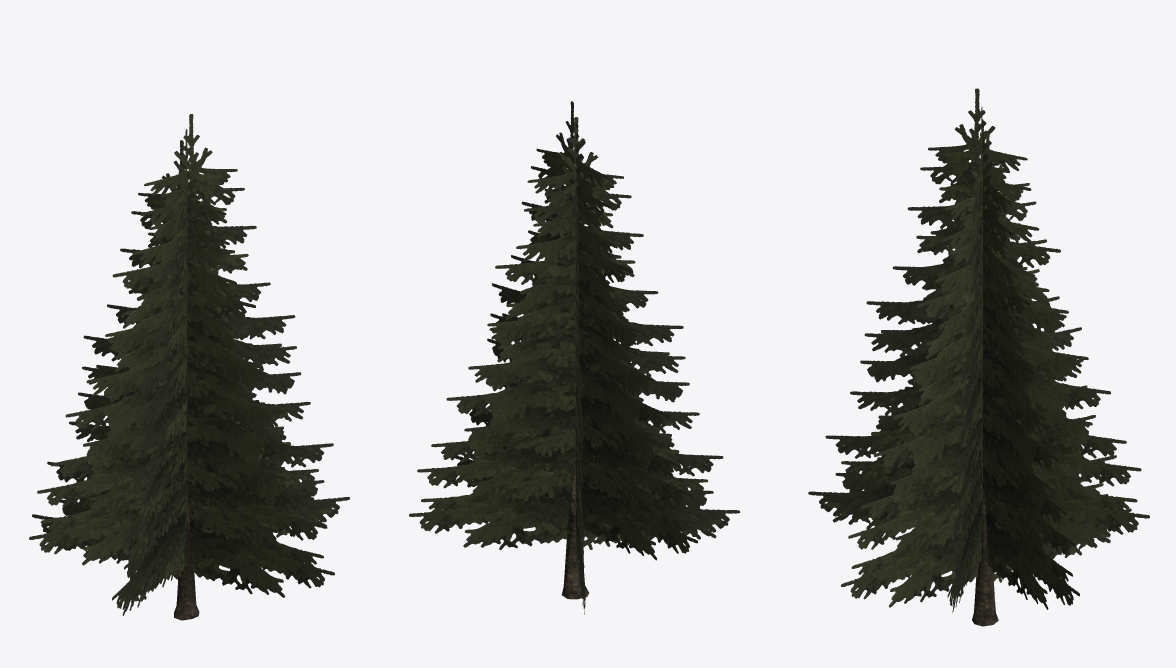
The model's file is tree_rt_3.fbx.
The picture shows the model from 3 angles, left to right: view 1: azimuth 30°, elevation 25°; view 2: azimuth 150°, elevation 25°; view 3: azimuth 270°, elevation 25°; orthographic projection. The views are drawn at different scales.
Parts seen in each view (by area): view 1: tree_rt_3; view 2: tree_rt_3; view 3: tree_rt_3.
Part boxes in pixels (box(x1,y1,x2,y2)): tree_rt_3: box(29, 114, 349, 620); tree_rt_3: box(409, 101, 740, 614); tree_rt_3: box(808, 88, 1149, 626).
Bounding box in the file's own units: 2.43 × 2.43 × 3.93.
